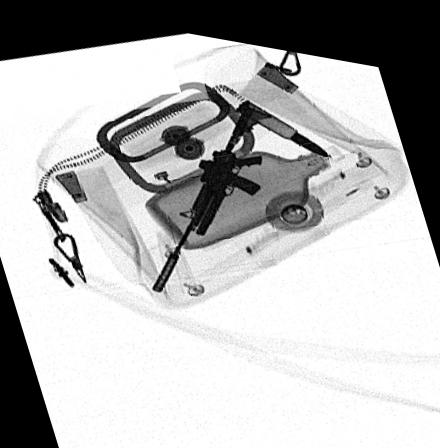Bullet: (233, 91, 331, 144)
Gun: (150, 91, 273, 284)
